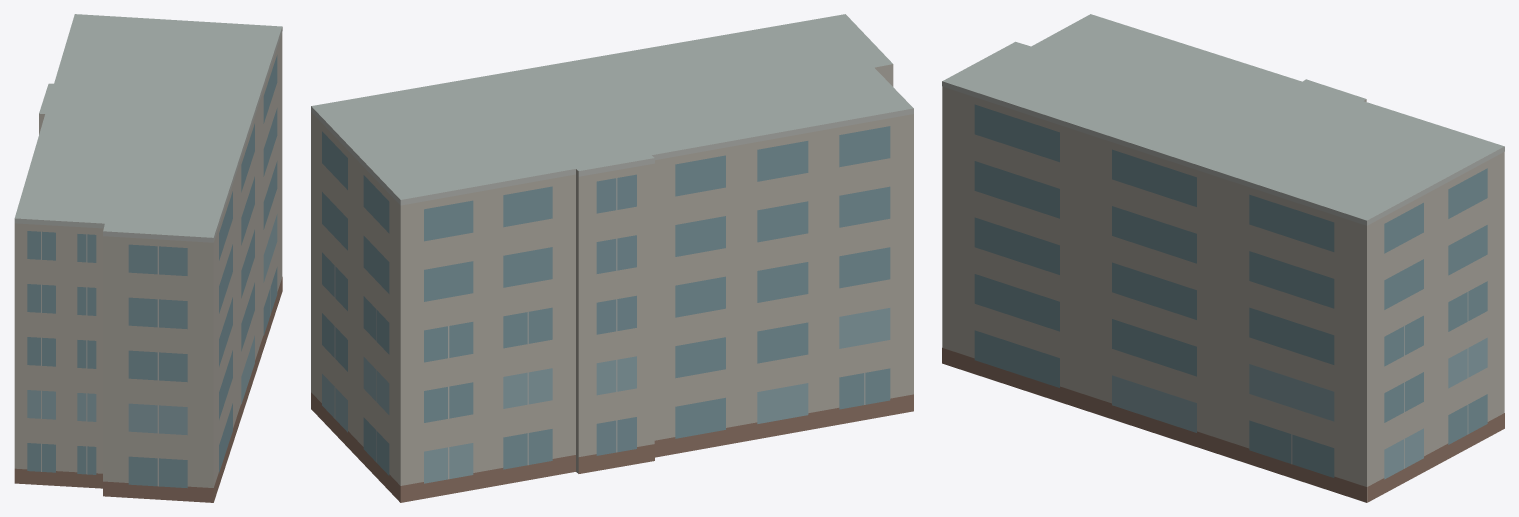
The model's file is survey-upis-32839423.glb.
3 renders of one model, left to right at view 1: azimuth 30°, elevation 25°; view 2: azimuth 150°, elevation 25°; view 3: azimuth 270°, elevation 25°, orthographic. The views are drawn at different scales.
Parts seen in each view (by area): view 1: survey-upis-32839423.tmp; view 2: survey-upis-32839423.tmp; view 3: survey-upis-32839423.tmp.
Part boxes in pixels (x1,y1,x2,y2): survey-upis-32839423.tmp: (14,14,282,502); survey-upis-32839423.tmp: (311,14,913,502); survey-upis-32839423.tmp: (942,14,1504,502).
Size of the model in its own units: 20.73 by 13.2 by 23.85.
